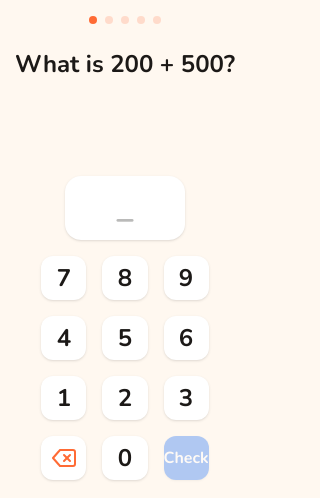
Test case: PRAC-02: Digit-grid widget › tapping digit key appends to display
This screenshot has width=320, height=498.
Click the button named "Digit 3" at point(186, 398), box x1=164 y1=376 x2=208 y2=420
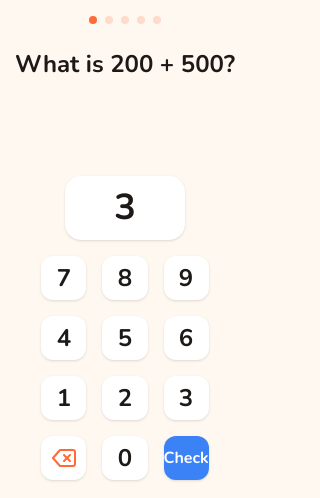
Result: the message reads "3" at x1=114 y1=183 x2=136 y2=232
